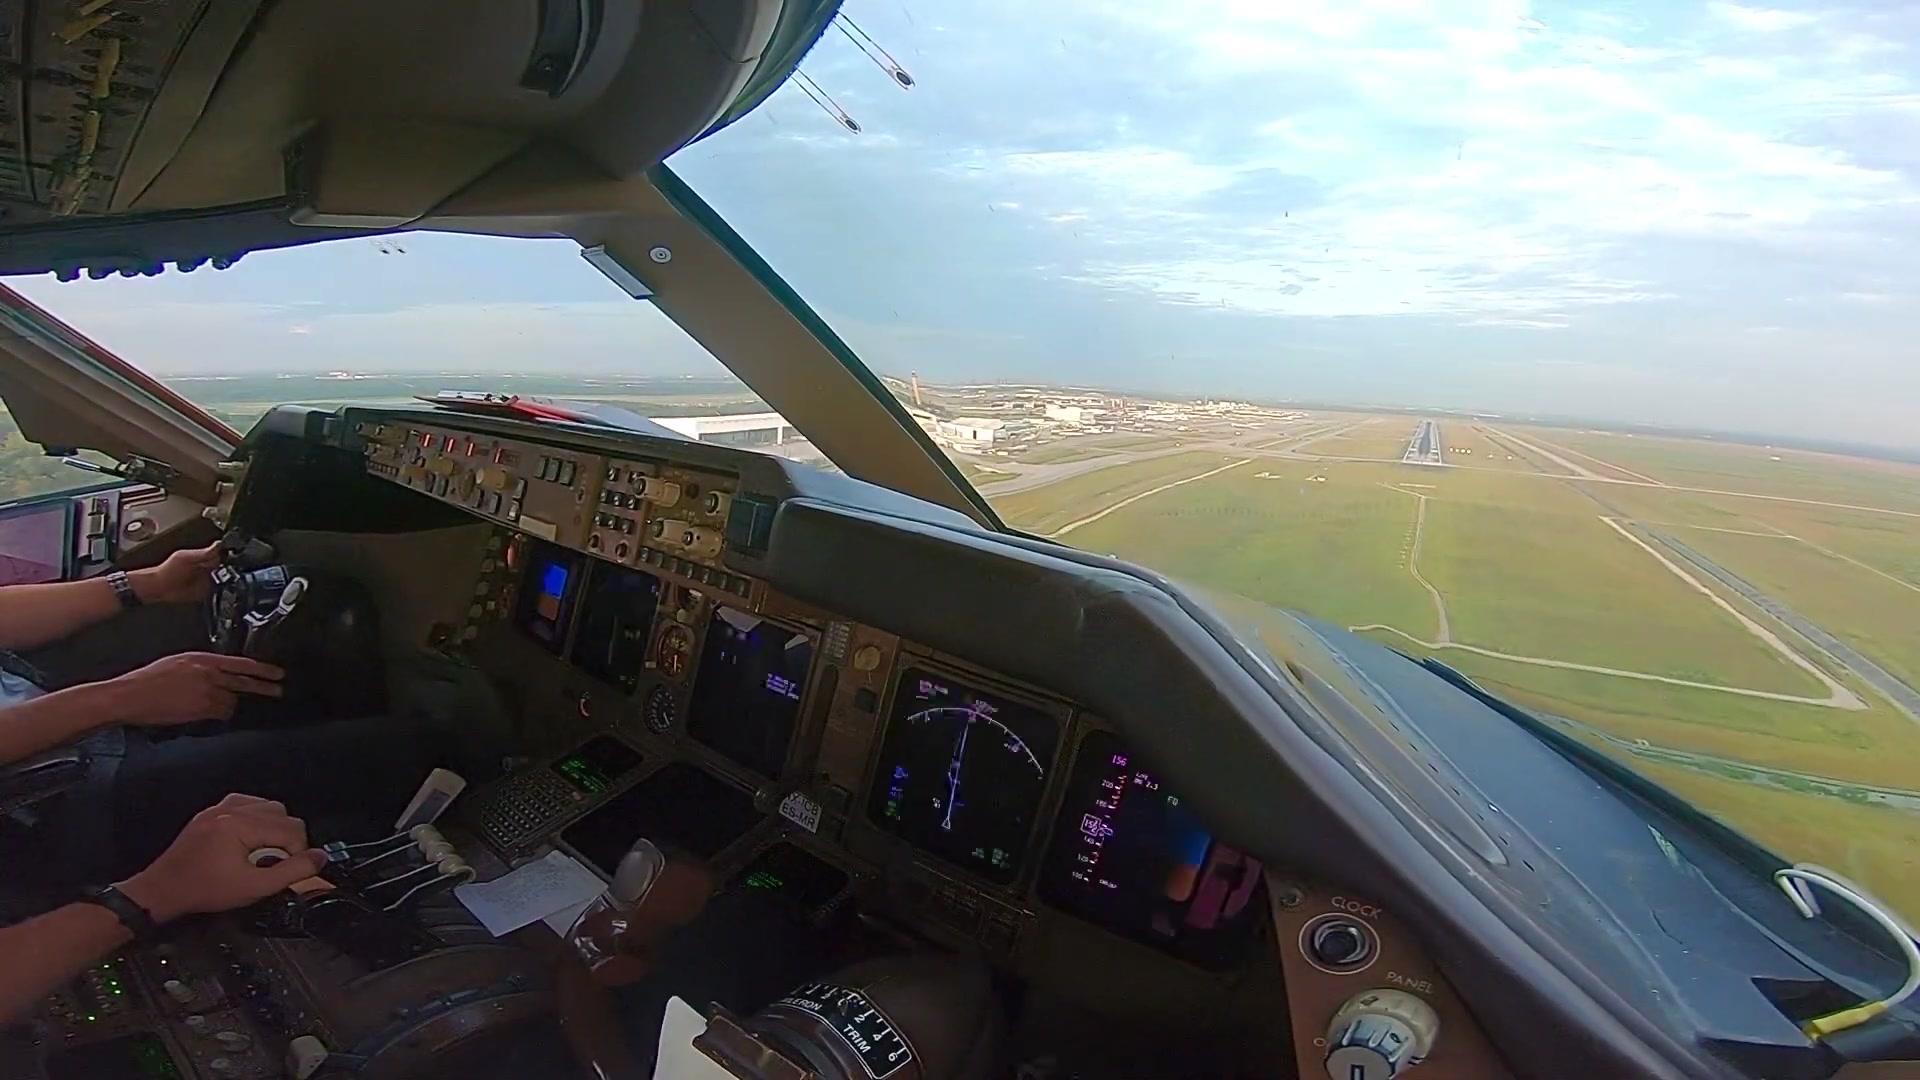runway: (1402, 417, 1441, 465)
